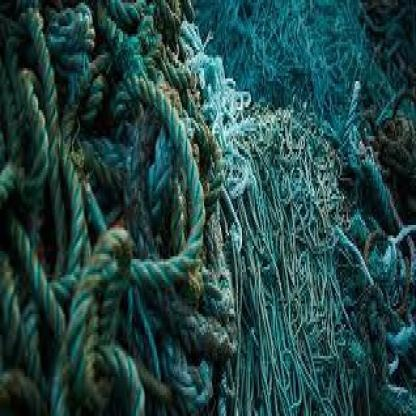net: (6, 2, 389, 416)
